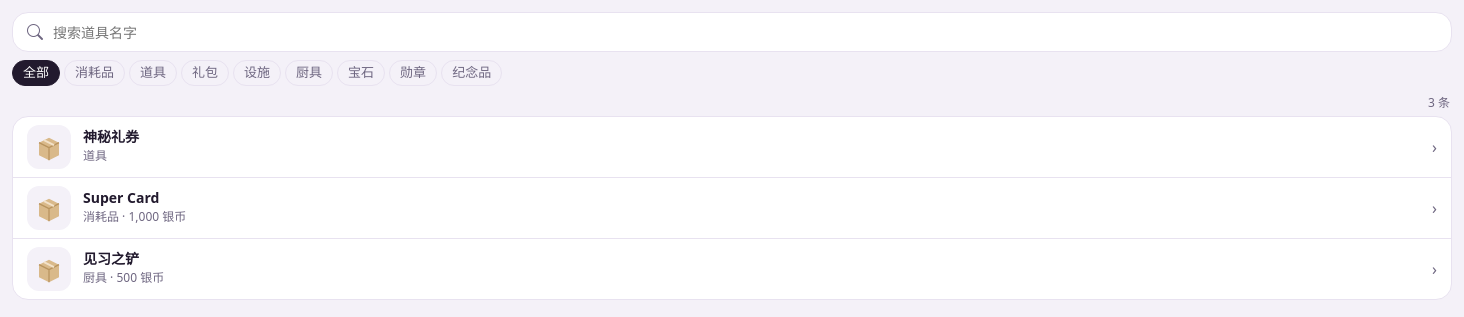
Scenario: 游戏资料列表（问题记录 142） › 道具：按类型筛选，搜索不区分大小写，点行进详情
The image size is (1464, 317).
Expected: the link with test id "wiki-row-4" shows "1,000 银币", 13,176 -> 1451,238
Click the button with test id "wiki-filter-4" at (309,73), box 285,60 -> 333,86
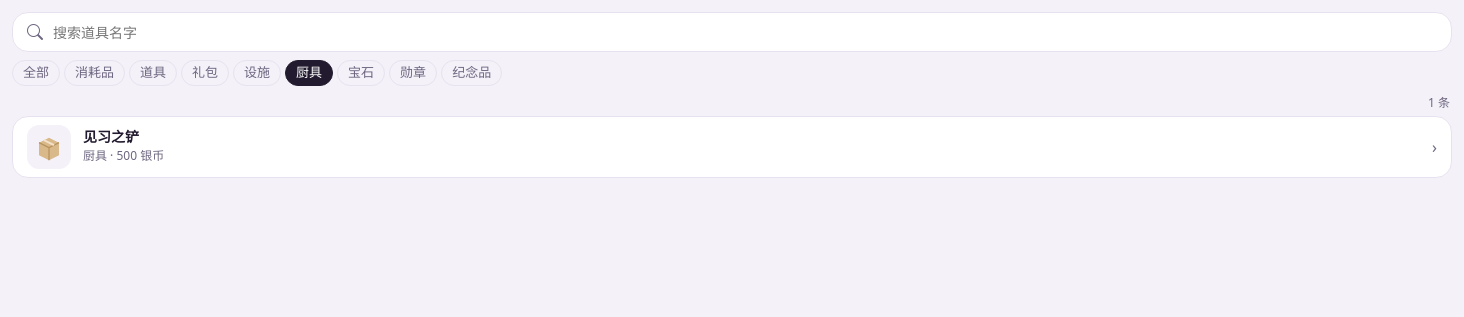
Click the button with test id "wiki-filter-all" at (36,73), box 12,60 -> 60,86
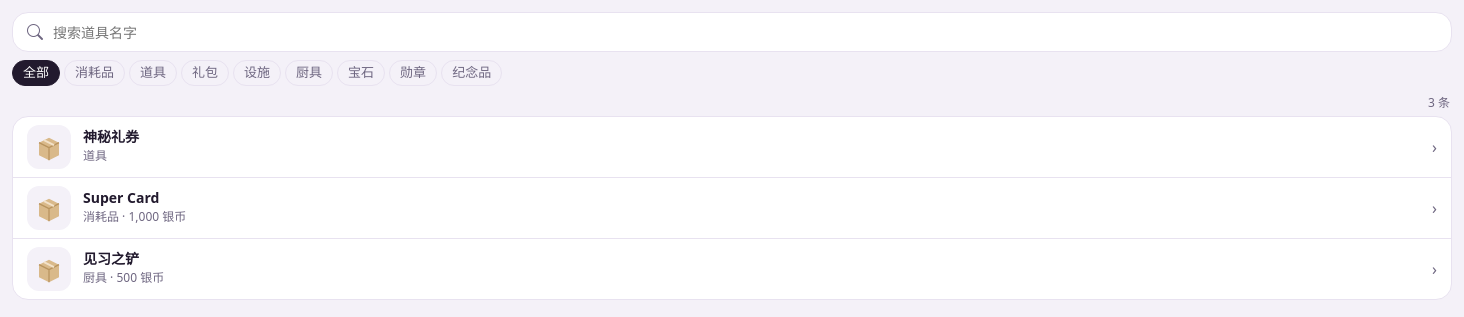
Type "super" into the search field with test id "wiki-q" at (744,32), box 51,20 -> 1437,44
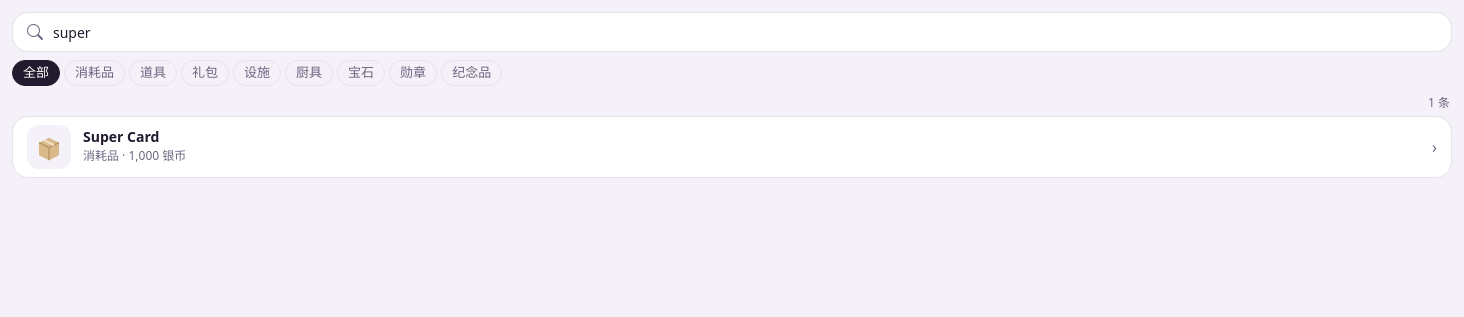
Replace the text in the search field with test id "wiki-q" with "没有这个" at (744,32), box 51,20 -> 1437,44
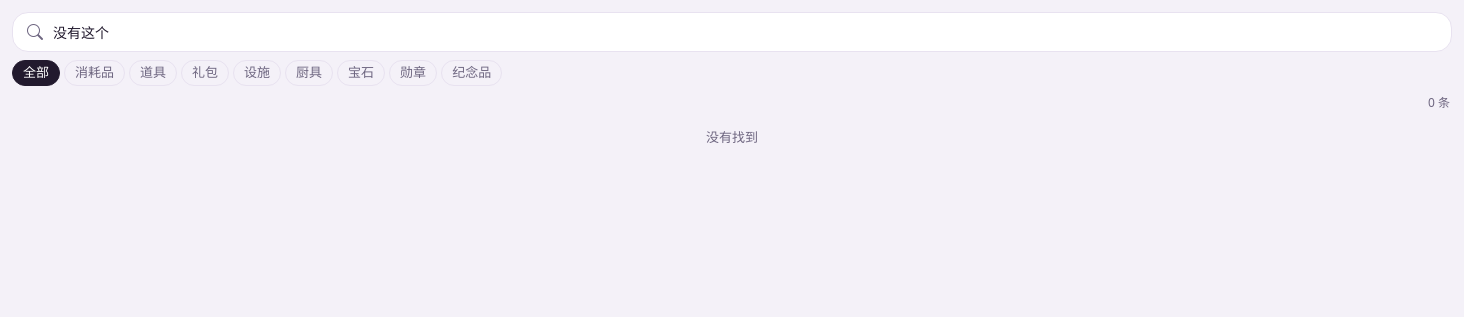
Result: the text with test id "wiki-empty" reads "没有找到" at 706,128 -> 758,146
